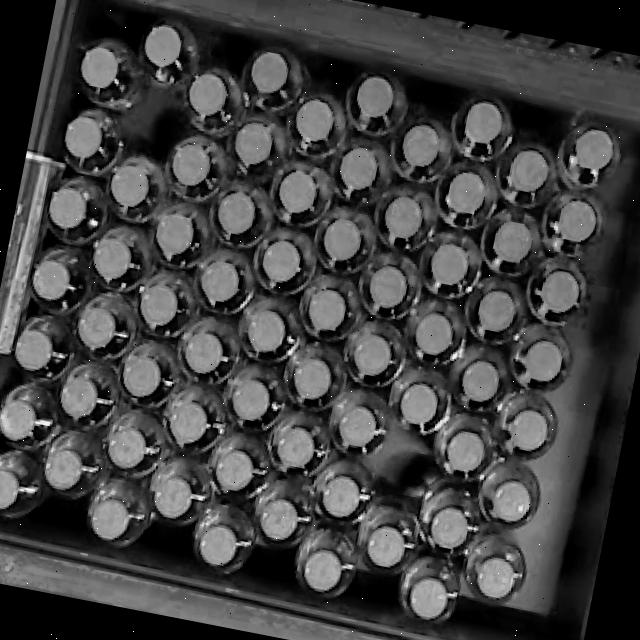vial: (445, 171, 486, 215), (476, 556, 516, 600), (557, 199, 597, 243), (366, 525, 406, 568), (198, 524, 238, 567), (90, 498, 130, 541), (122, 355, 162, 398), (247, 310, 287, 353), (139, 284, 179, 327), (171, 143, 211, 186), (509, 150, 549, 193), (188, 73, 228, 116), (430, 506, 469, 550), (259, 498, 298, 542), (107, 427, 147, 469), (231, 379, 271, 421), (184, 332, 224, 374), (14, 329, 54, 371), (492, 480, 531, 523), (338, 405, 377, 448), (461, 360, 500, 403), (414, 313, 453, 356), (540, 270, 579, 313), (217, 192, 256, 235), (64, 115, 103, 158), (234, 122, 273, 165), (384, 196, 423, 239), (262, 240, 301, 283), (339, 147, 378, 190), (356, 75, 395, 118), (295, 99, 334, 142), (43, 449, 83, 490), (409, 577, 448, 619), (169, 402, 208, 444), (215, 449, 254, 491), (446, 430, 485, 472), (524, 340, 563, 382), (353, 334, 392, 376), (77, 307, 116, 349), (93, 238, 132, 280), (201, 261, 240, 303), (48, 187, 87, 229), (323, 219, 362, 261), (493, 221, 532, 263), (322, 475, 360, 518), (304, 549, 342, 592), (277, 426, 315, 469), (510, 409, 548, 452), (464, 100, 502, 143), (402, 124, 440, 167), (144, 24, 182, 67), (477, 291, 516, 332), (32, 260, 71, 301), (575, 129, 614, 170), (154, 477, 192, 519), (60, 376, 98, 418), (400, 383, 438, 425), (430, 243, 468, 285), (369, 266, 407, 308), (308, 289, 346, 331), (294, 358, 332, 400), (156, 214, 194, 256), (111, 165, 149, 207), (251, 51, 289, 93), (81, 47, 119, 89), (279, 172, 317, 213), (0, 399, 37, 441), (0, 468, 20, 510)
